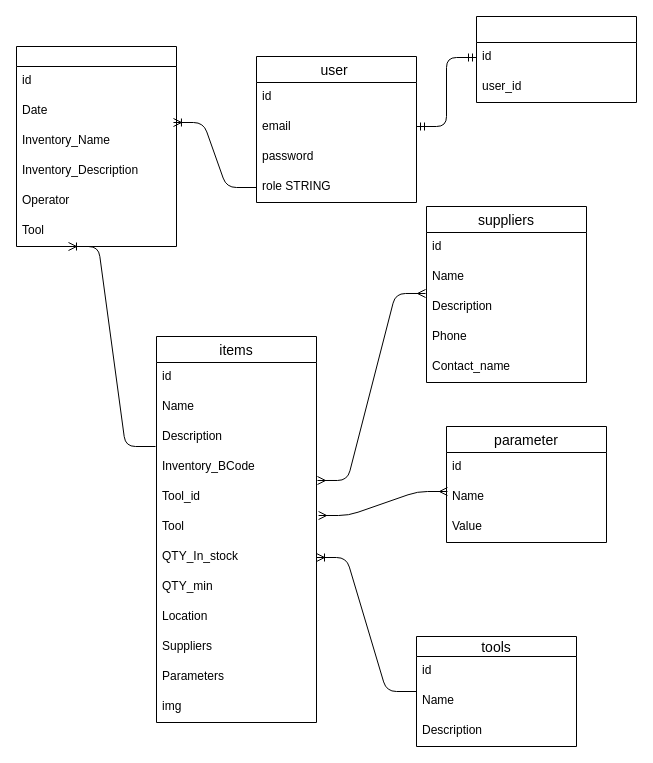
The diagram is 653 pixels wide and 763 high, and some of its shapes have lost their labels. Here are the shapes that lost their labels. From the top down, the box of each, then its label:
(476, 16, 636, 102): admin_panel
(16, 46, 176, 246): orders
